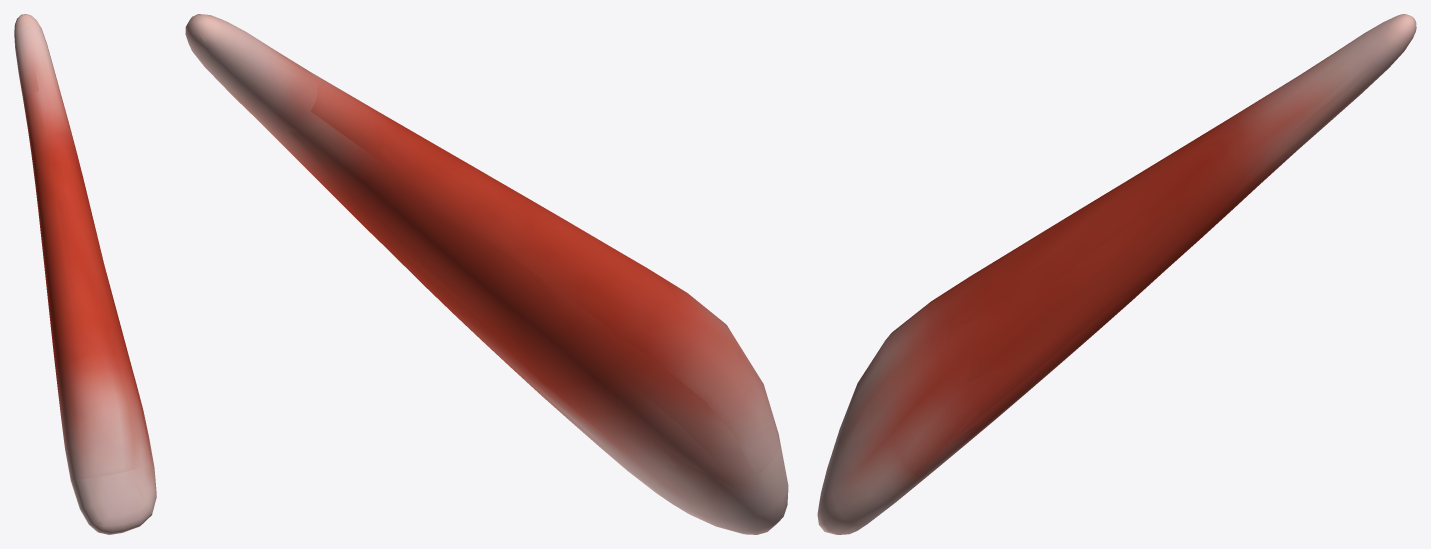
The model's file is R Quadratus Femoris.fbx.
The picture shows the model from 3 angles, left to right: view 1: azimuth 30°, elevation 25°; view 2: azimuth 150°, elevation 25°; view 3: azimuth 270°, elevation 25°; orthographic projection. The views are drawn at different scales.
Parts seen in each view (by area): view 1: R Quadratus Femoris, R Quadratus Femoris low; view 2: R Quadratus Femoris, R Quadratus Femoris low; view 3: R Quadratus Femoris, R Quadratus Femoris low.
Boxes of the visible parts, x1,y1,x2,y2 form: R Quadratus Femoris: (14, 14, 156, 534); R Quadratus Femoris low: (15, 15, 155, 533); R Quadratus Femoris: (185, 14, 788, 534); R Quadratus Femoris low: (191, 17, 787, 534); R Quadratus Femoris: (817, 14, 1416, 534); R Quadratus Femoris low: (818, 14, 1410, 534).
Bounding box in the file's own units: 5.18 × 13.89 × 13.07.
